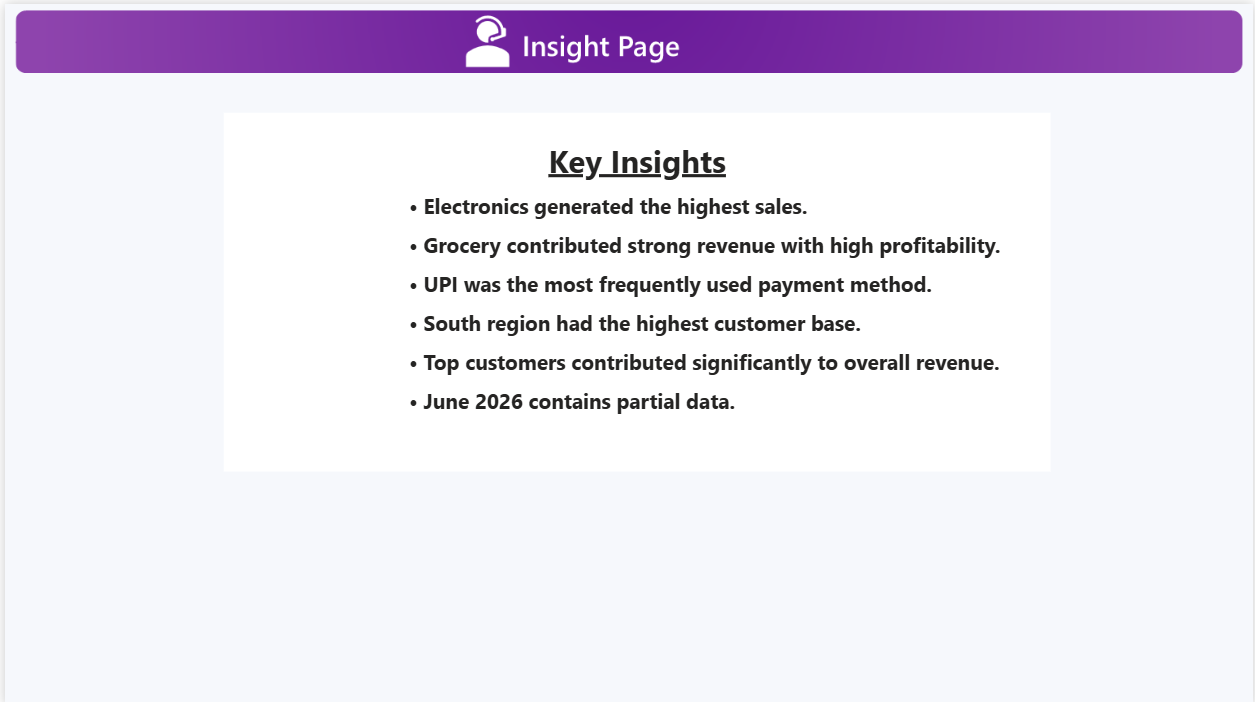

The dashboard page shown, as its layout file describes it:
{"tool":"powerbi","page":{"name":"Insights page","canvas":[1920,1080],"ordinal":3},"visuals":[{"type":"textbox","title":"Project Summary","box":[72,24,1800,96],"z":0},{"type":"textbox","box":[336,168,1272,552],"z":1}]}

Visuals, with their boxes in screenshot pixels (x1, y1, x2, y2), scaled from the page's 1920x1080 canvas onto the 1255x702 screenshot:
"Project Summary" textbox: box=[47, 16, 1224, 78]
textbox: box=[220, 109, 1051, 468]
